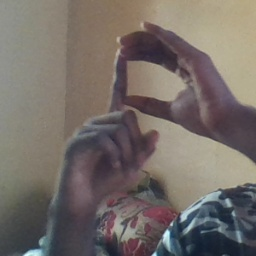P: (70, 18, 213, 170)
